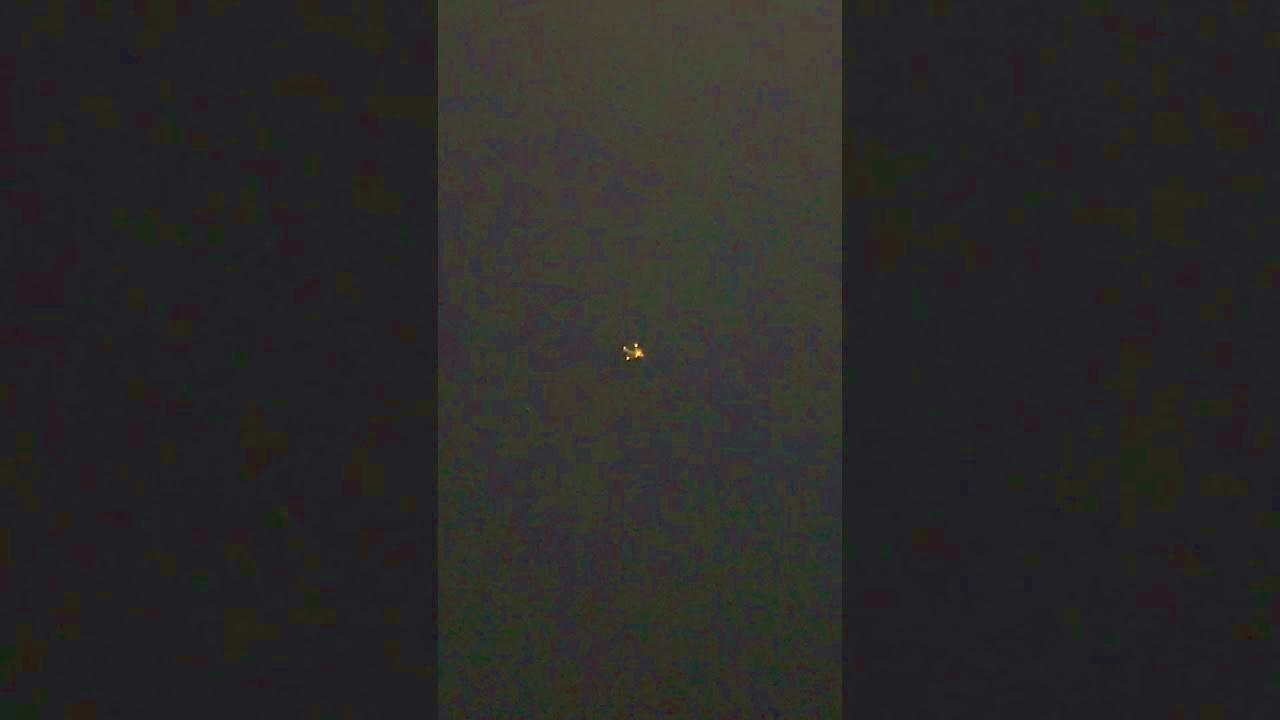Plane: (610, 335, 661, 363)
